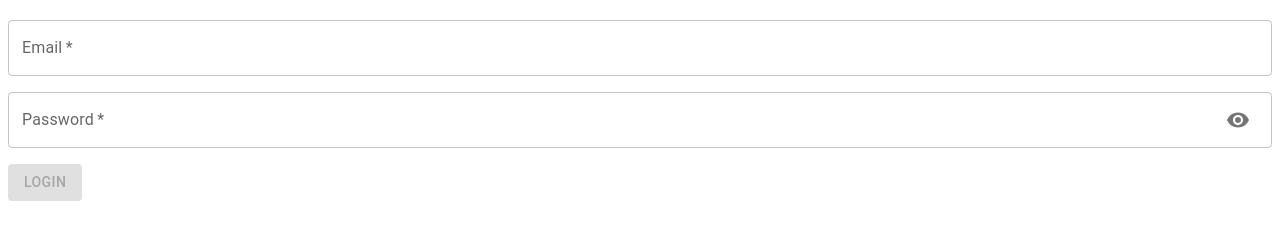
Scenario: <Login /> › validates the email field
The width and height of the screenshot is (1280, 240).
Type "ss" into the field labelled "Email" at (640, 48), box [8,20,1272,76]
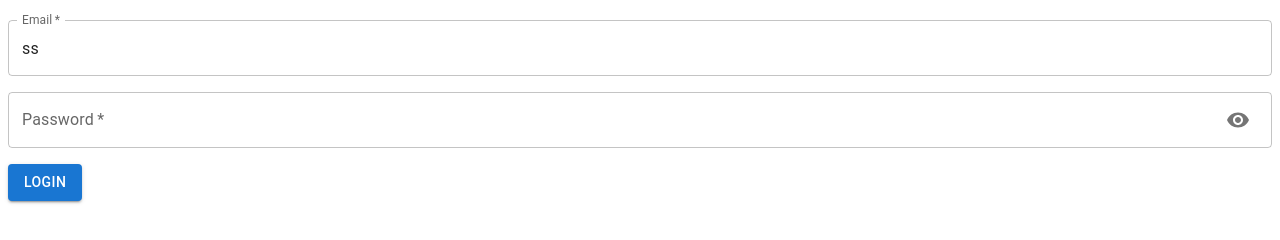
Clear the field labelled "Email" at (640, 48), box [8,20,1272,76]
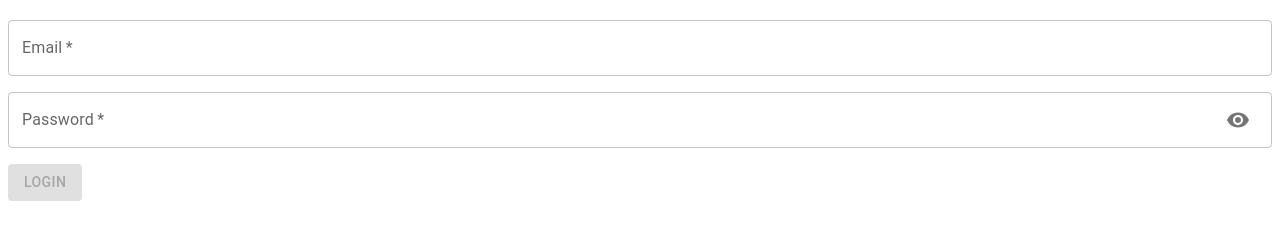
Leave the field labelled "Email", box [8,20,1272,76]
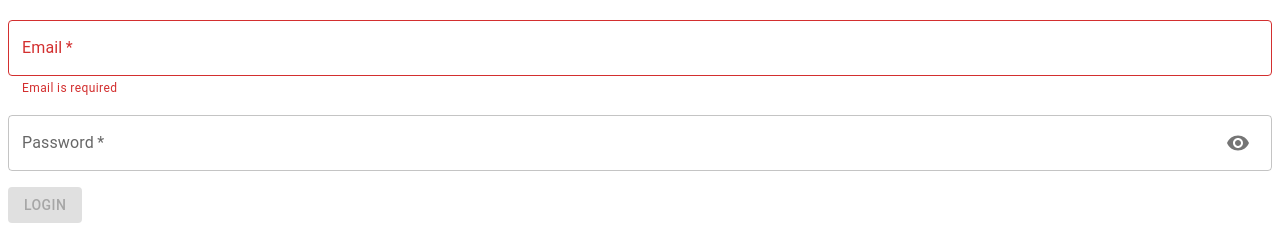
Now the button "Login" is disabled, box [8,187,82,223]
Now the text "Email is required" is shown, box [22,81,117,95]
Type "ss" into the field labelled "Email" at (640, 48), box [8,20,1272,76]
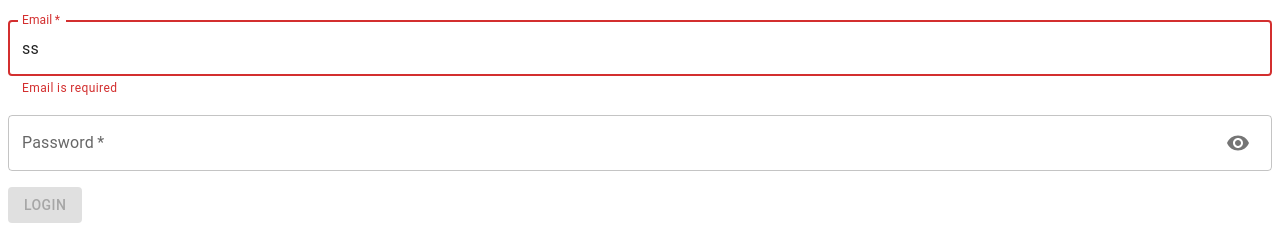
Leave the field labelled "Email", box [8,20,1272,76]
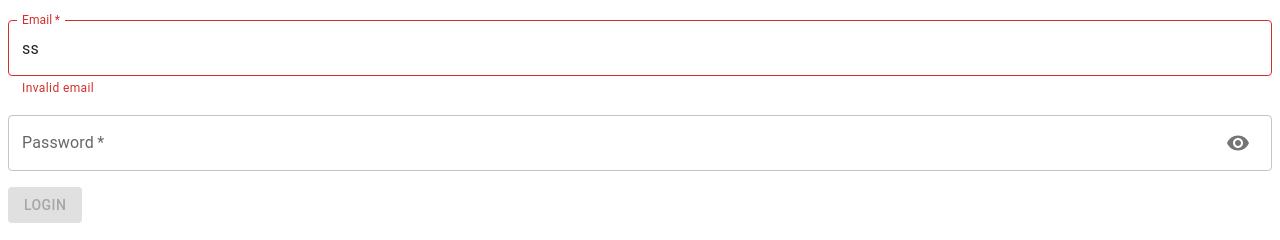
Now the text "Invalid email" is shown, box [22,81,94,95]
